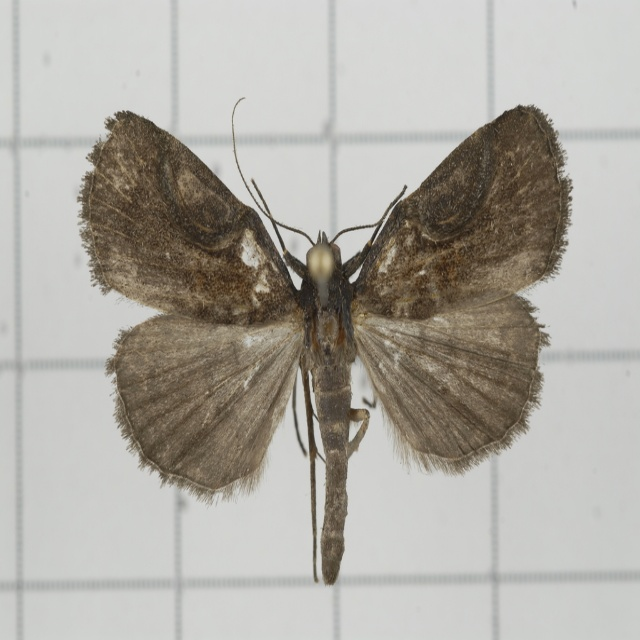Moths and butterflies: (75, 95, 574, 583)
